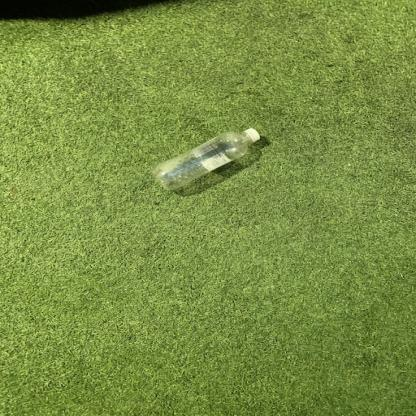trash: (148, 128, 262, 192)
